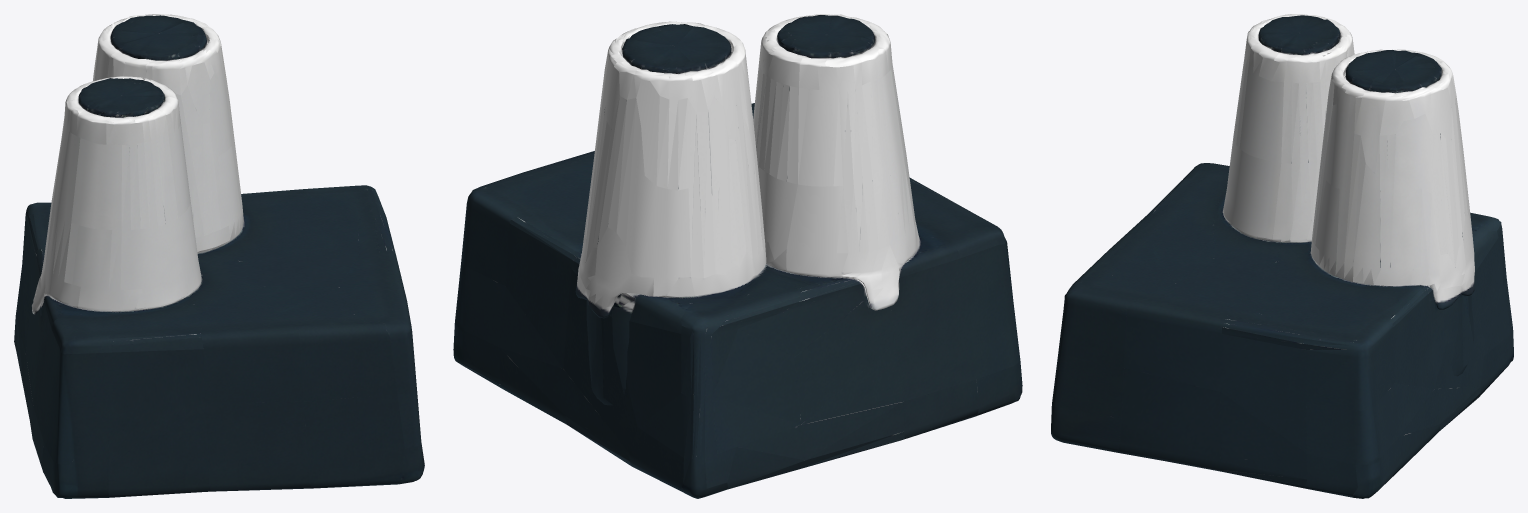
The model's file is nuclear-power.glb.
The picture shows the model from 3 angles, left to right: view 1: azimuth 30°, elevation 25°; view 2: azimuth 150°, elevation 25°; view 3: azimuth 270°, elevation 25°; orthographic projection. The views are drawn at different scales.
Size of the model in its own units: 1 by 0.7969 by 1.
1 material, 1 textured.
